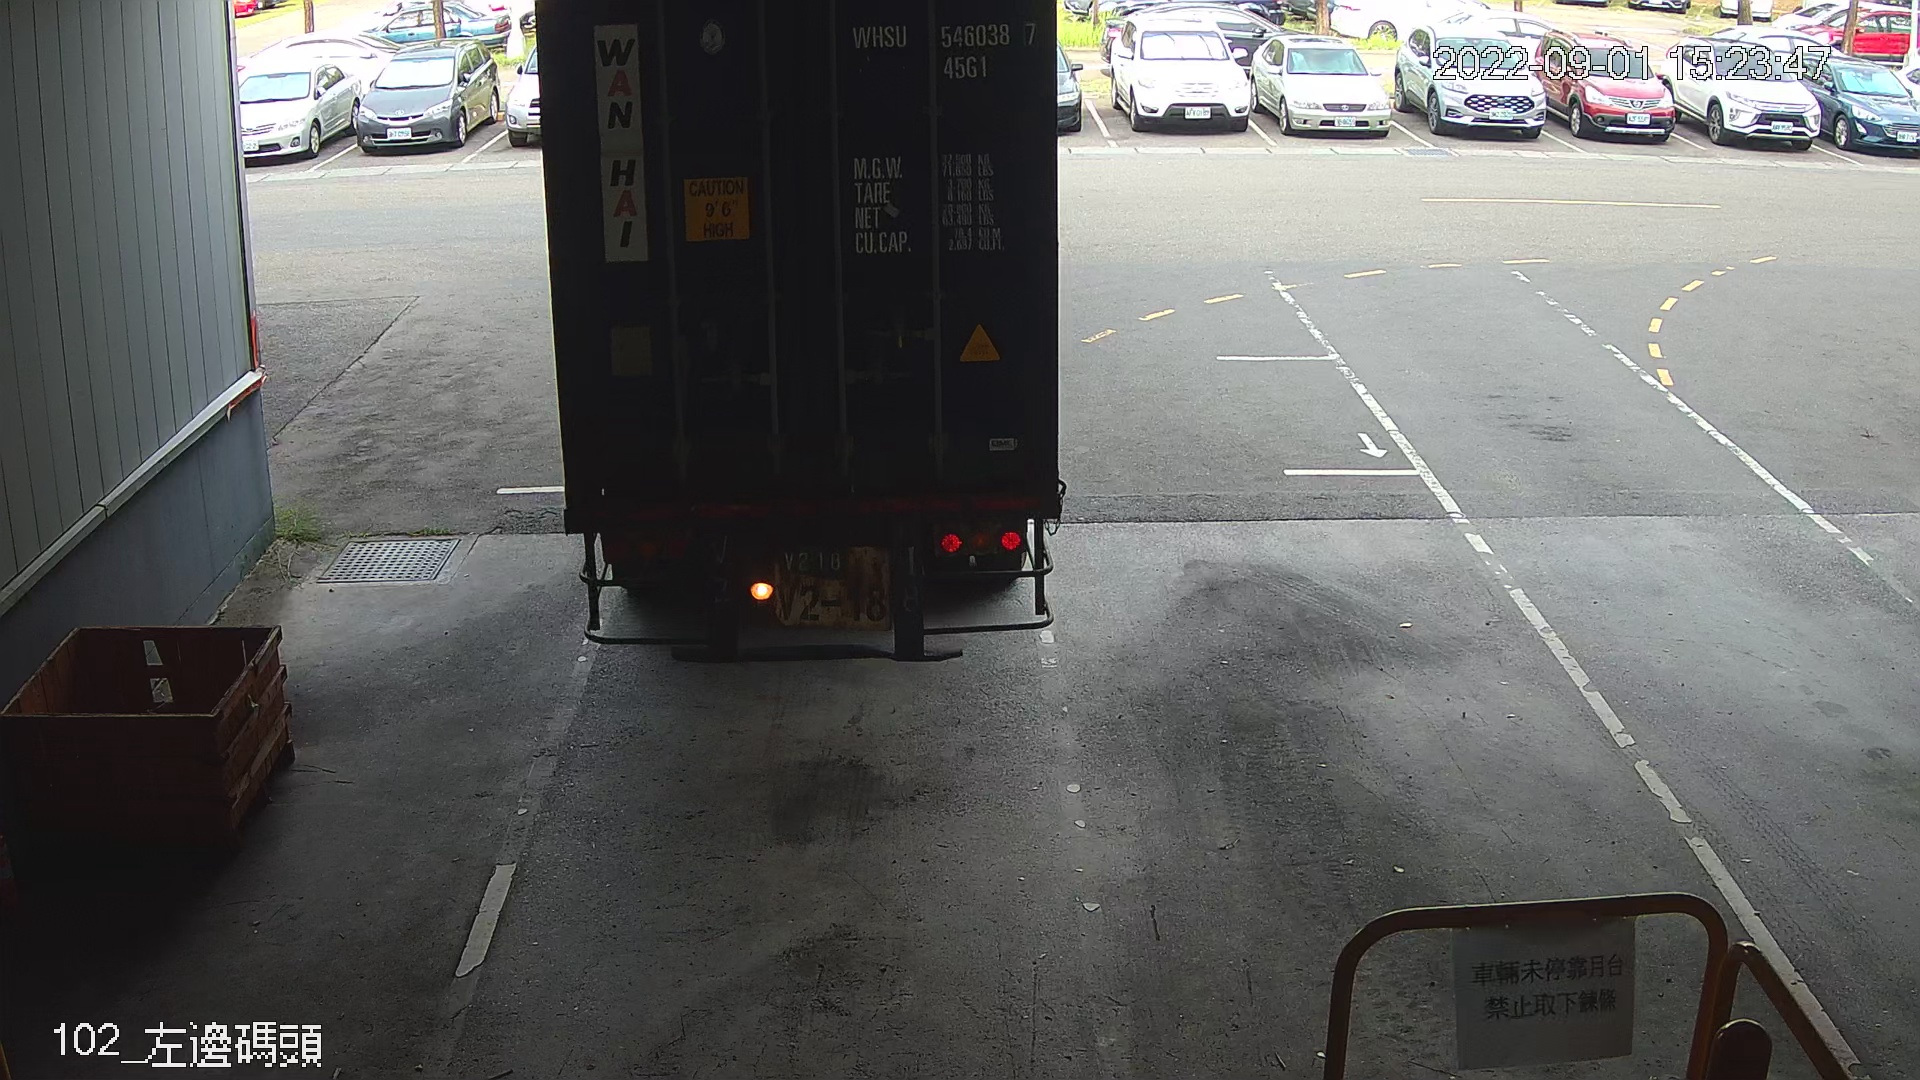container: (845, 11, 1048, 86)
